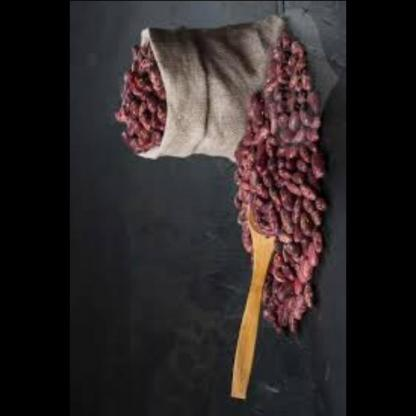fasol: (230, 28, 332, 328), (108, 47, 175, 158)
